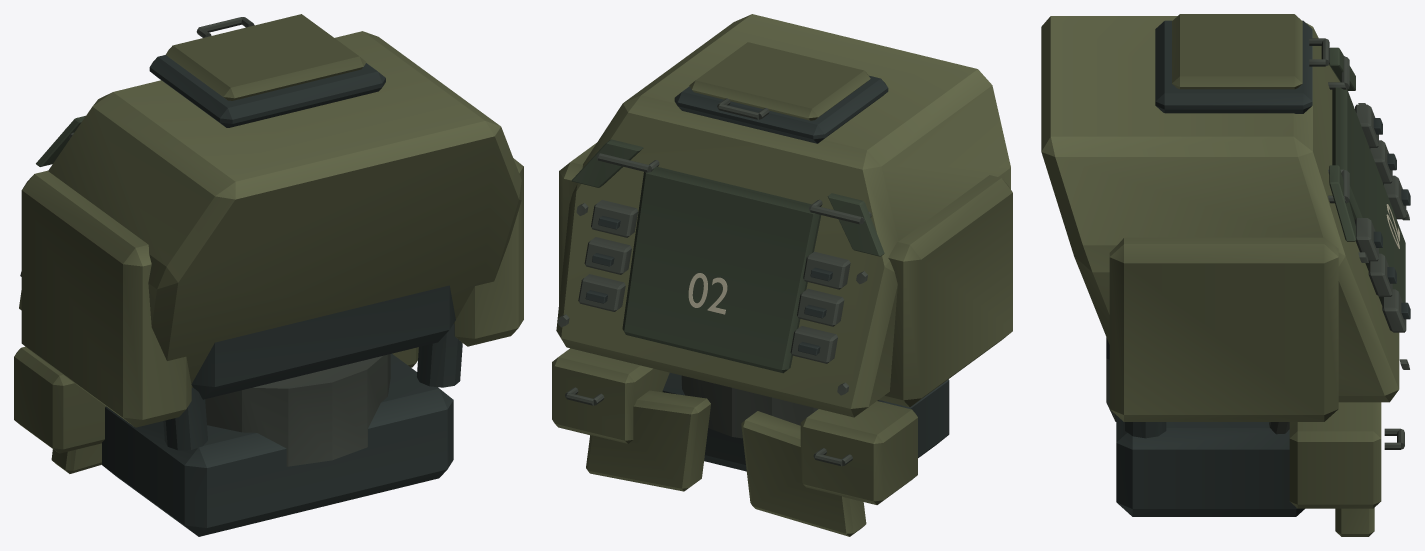
The model's file is torso.glb.
3 views of the same model, side by side, from view 1: azimuth 30°, elevation 25°; view 2: azimuth 150°, elevation 25°; view 3: azimuth 270°, elevation 25° (orthographic). The views are drawn at different scales.
Parts seen in each view (by area): view 1: Sloped_glacis, Hip_crossmember, Flank_armour, Crew_cell, Waist_turntable, Crew_hatch, Hip_toolbox, Hatch_coaming, Flank_armour.001, Chest_frame_rail, Chest_frame_rail.001, Front_hip_skirt.001 (+1 smaller); view 2: Sloped_glacis, Chest_centre_applique, Flank_armour, Hip_toolbox, Front_hip_skirt, Crew_hatch, Front_hip_skirt.001, Hip_toolbox.001, Hatch_coaming, Hip_crossmember, Waist_turntable, Disruptive_chest_panel.001 (+9 smaller); view 3: Sloped_glacis, Flank_armour.001, Hip_crossmember, Crew_hatch, Hip_toolbox.001, Chest_centre_applique, Hatch_coaming, Front_hip_skirt, Disruptive_chest_panel, Spare_track_link.003, Spare_track_link.005, Spare_track_link.004 (+5 smaller).
Boxes of the visible parts, bbox=[...] form: Sloped_glacis: bbox=[19, 31, 521, 387]; Hip_crossmember: bbox=[102, 353, 453, 536]; Flank_armour: bbox=[21, 170, 191, 427]; Crew_cell: bbox=[191, 285, 455, 399]; Waist_turntable: bbox=[205, 354, 390, 466]; Crew_hatch: bbox=[166, 14, 366, 100]; Hip_toolbox: bbox=[14, 346, 105, 453]; Hatch_coaming: bbox=[149, 55, 385, 127]; Flank_armour.001: bbox=[454, 158, 523, 346]; Chest_frame_rail: bbox=[417, 324, 462, 387]; Chest_frame_rail.001: bbox=[163, 387, 207, 450]; Front_hip_skirt.001: bbox=[51, 443, 101, 473]; Sloped_glacis: bbox=[556, 14, 1010, 417]; Chest_centre_applique: bbox=[622, 166, 821, 373]; Flank_armour: bbox=[879, 175, 1012, 407]; Hip_toolbox: bbox=[800, 401, 917, 504]; Front_hip_skirt: bbox=[586, 390, 710, 491]; Crew_hatch: bbox=[689, 42, 870, 120]; Front_hip_skirt.001: bbox=[741, 411, 866, 536]; Hip_toolbox.001: bbox=[552, 348, 669, 443]; Hatch_coaming: bbox=[674, 75, 888, 143]; Hip_crossmember: bbox=[662, 372, 949, 471]; Waist_turntable: bbox=[681, 375, 818, 438]; Disruptive_chest_panel.001: bbox=[827, 193, 884, 256]; Sloped_glacis: bbox=[1041, 16, 1399, 402]; Flank_armour.001: bbox=[1109, 237, 1338, 421]; Hip_crossmember: bbox=[1116, 415, 1304, 516]; Crew_hatch: bbox=[1172, 14, 1302, 89]; Hip_toolbox.001: bbox=[1289, 402, 1381, 508]; Chest_centre_applique: bbox=[1332, 87, 1405, 305]; Hatch_coaming: bbox=[1155, 20, 1312, 113]; Front_hip_skirt: bbox=[1335, 508, 1374, 536]; Disruptive_chest_panel: bbox=[1329, 165, 1355, 241]; Spare_track_link.003: bbox=[1382, 289, 1406, 332]; Spare_track_link.005: bbox=[1355, 218, 1378, 261]; Spare_track_link.004: bbox=[1368, 253, 1392, 296].
Size of the model in its own units: 0.7 by 0.7121 by 0.5641.
